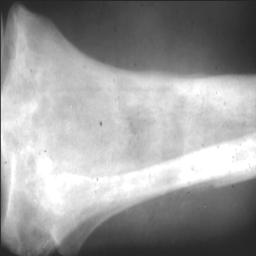cancer: (1, 1, 256, 256)
